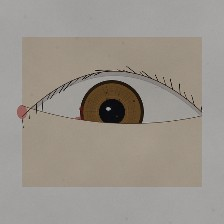hemorrhage_spot: (71, 86, 143, 143)
